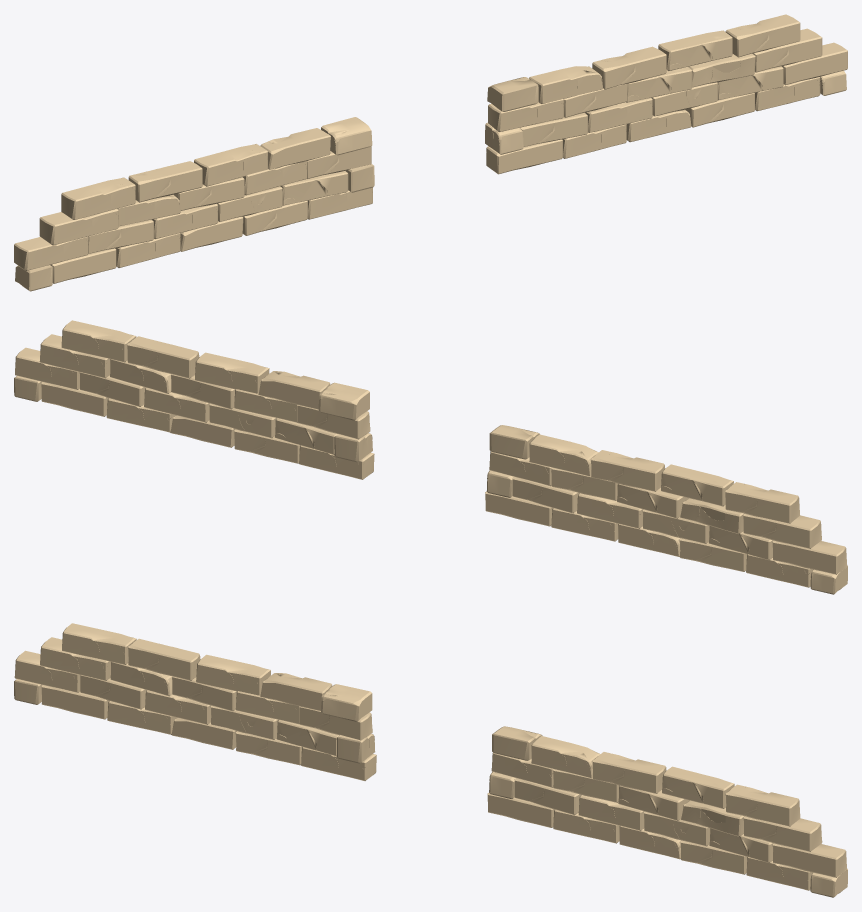
File: muret.FBX
3 views of the same model, one above another, from view 1: azimuth 30°, elevation 25°; view 2: azimuth 150°, elevation 25°; view 3: azimuth 330°, elevation 25° (orthographic).
Visible parts, largest first — view 1: Box044, Box011, Box020, Box024, Box031, Box012, Box030, Box043, Box021, Box042, Box016, Box009 (+32 smaller); view 2: Box044, Box031, Box020, Box011, Box012, Box024, Box030, Box043, Box042, Box021, Box009, Box022 (+32 smaller); view 3: Box011, Box020, Box031, Box044, Box024, Box012, Box021, Box009, Box030, Box007, Box043, Box032 (+32 smaller).
Part boxes in pixels (x1,y1,x2,y2): Box044: [61, 177, 135, 219]; Box011: [725, 14, 800, 57]; Box020: [592, 46, 666, 89]; Box024: [128, 161, 202, 202]; Box031: [194, 144, 267, 186]; Box012: [658, 30, 732, 70]; Box030: [260, 128, 330, 169]; Box043: [39, 208, 118, 245]; Box021: [529, 66, 602, 103]; Box042: [14, 236, 88, 270]; Box016: [486, 139, 562, 174]; Box009: [752, 28, 822, 72]; Box044: [725, 482, 799, 523]; Box031: [591, 450, 664, 491]; Box020: [195, 352, 269, 393]; Box011: [61, 320, 136, 362]; Box012: [127, 336, 199, 378]; Box024: [661, 464, 733, 506]; Box030: [529, 434, 598, 476]; Box043: [743, 513, 821, 548]; Box042: [772, 540, 847, 574]; Box021: [258, 371, 330, 409]; Box009: [39, 334, 110, 378]; Box022: [318, 382, 369, 420]; Box011: [725, 784, 800, 826]; Box020: [592, 752, 666, 793]; Box031: [196, 654, 270, 695]; Box044: [62, 623, 136, 664]; Box024: [128, 638, 200, 680]; Box012: [662, 766, 734, 808]; Box021: [531, 736, 600, 778]; Box009: [743, 816, 822, 851]; Box030: [260, 673, 332, 710]; Box007: [772, 843, 846, 877]; Box043: [40, 637, 110, 680]; Box032: [321, 684, 372, 721].
Size of the model in its own units: 255 by 23.9 by 9.78.
